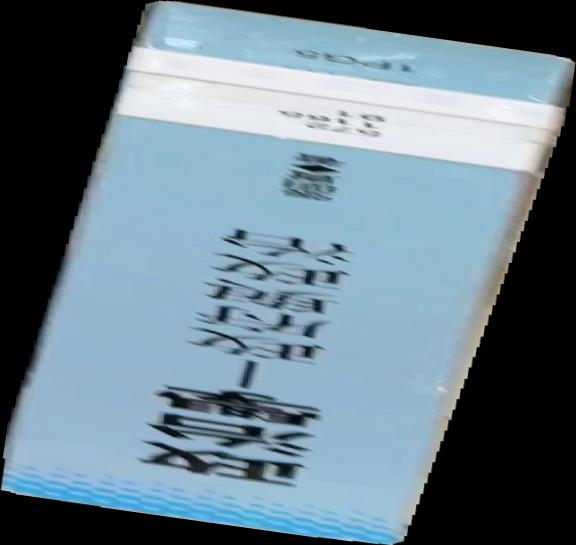reverse: (1, 1, 576, 545)
